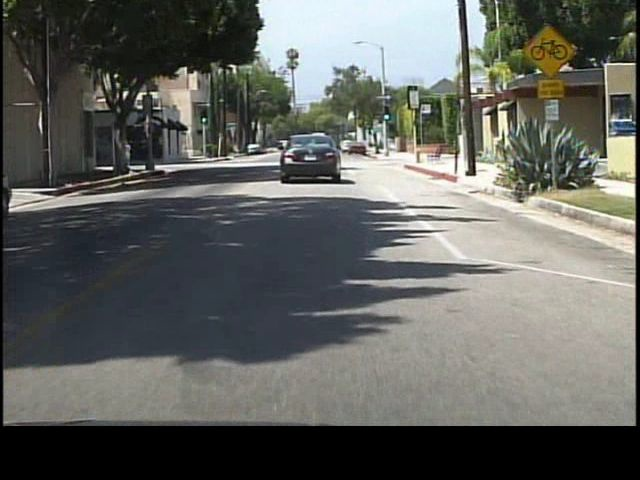person: (124, 136, 137, 172)
